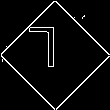L_S: (40, 30, 70, 80)
